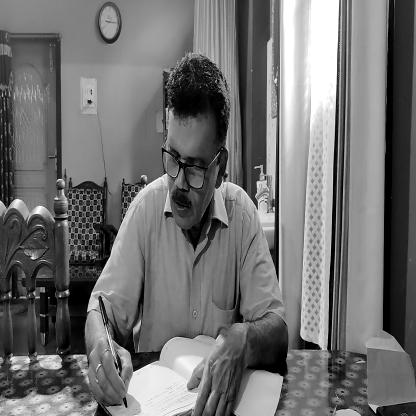Normal: (160, 54, 226, 232)
